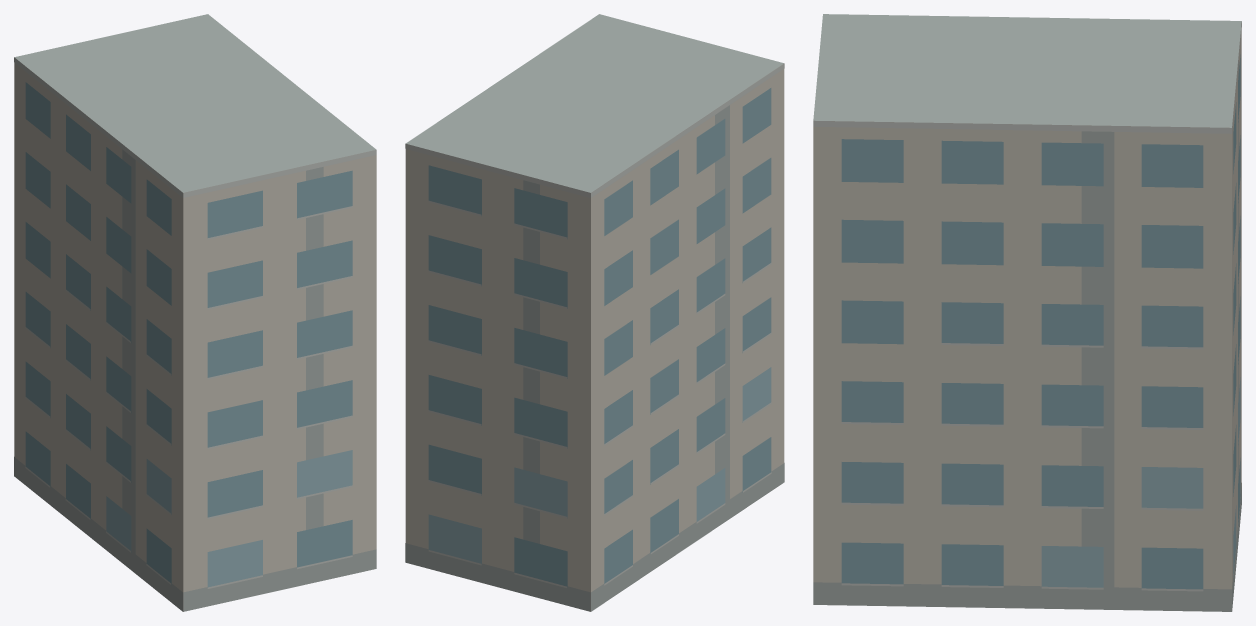
The model's file is survey-upis-32941035.glb.
The picture shows the model from 3 angles, left to right: view 1: azimuth 30°, elevation 25°; view 2: azimuth 150°, elevation 25°; view 3: azimuth 270°, elevation 25°; orthographic projection. The views are drawn at different scales.
Parts seen in each view (by area): view 1: survey-upis-32941035.tmp; view 2: survey-upis-32941035.tmp; view 3: survey-upis-32941035.tmp.
Part boxes in pixels (x1=…): survey-upis-32941035.tmp: x1=14, y1=14, x2=376, y2=611; survey-upis-32941035.tmp: x1=405, y1=14, x2=784, y2=611; survey-upis-32941035.tmp: x1=813, y1=14, x2=1241, y2=611.
Bounding box in the file's own units: 9.89 × 19.6 × 15.73.
